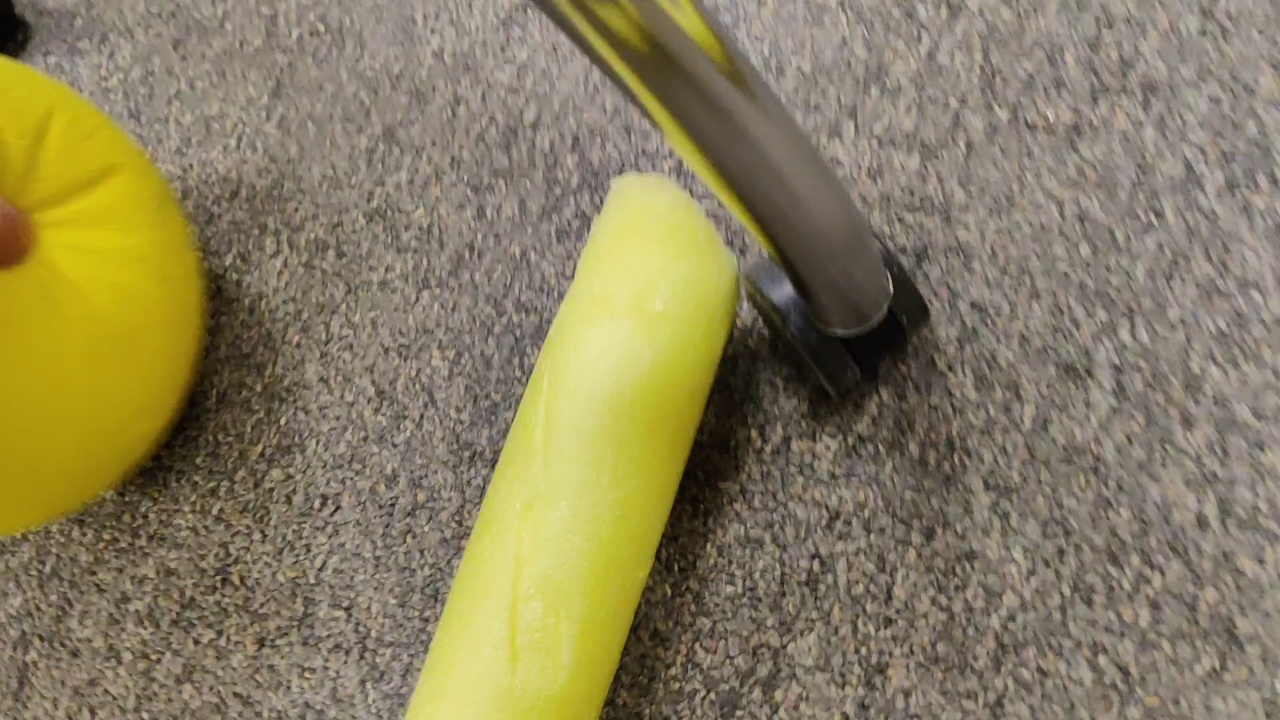Ball: (1, 47, 210, 522)
